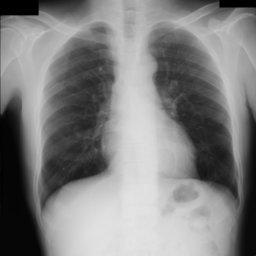left lobe: (150, 27, 238, 196)
right lobe: (41, 23, 115, 204)
